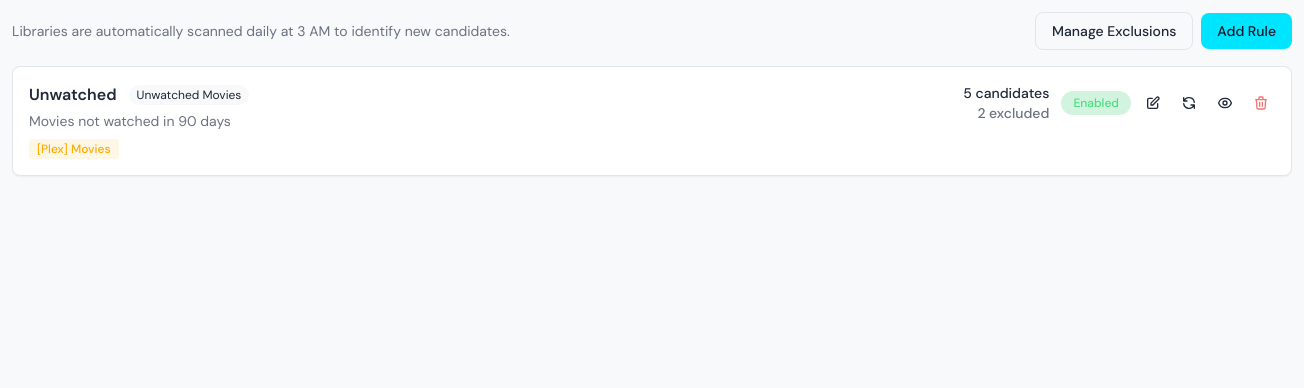
Test: MaintenanceRulesTab clickable titles › CandidatesView › renders plain text when candidate has no item
The image size is (1304, 388).
Click the button "5 candidates".
click(1006, 93)  # box [963, 83, 1049, 103]
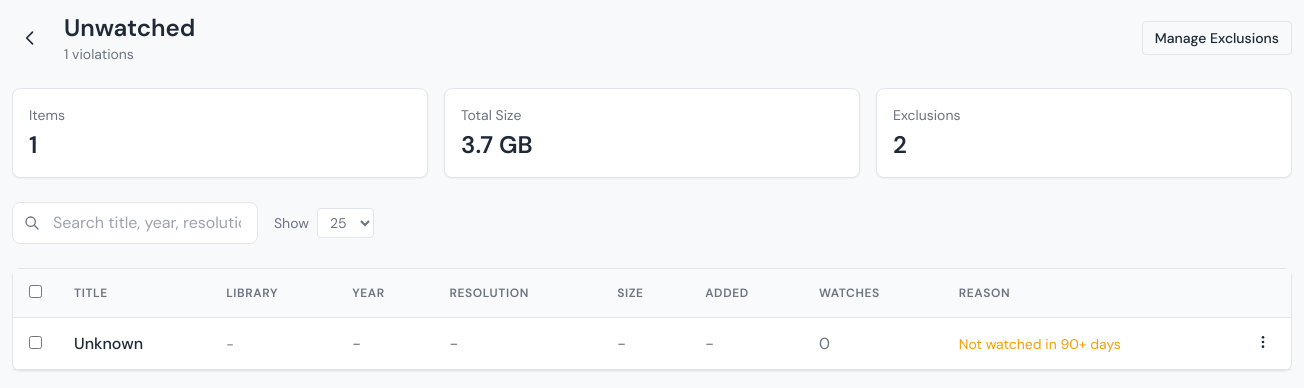
Result: the text "Unknown" is shown at [58, 318, 210, 370]
